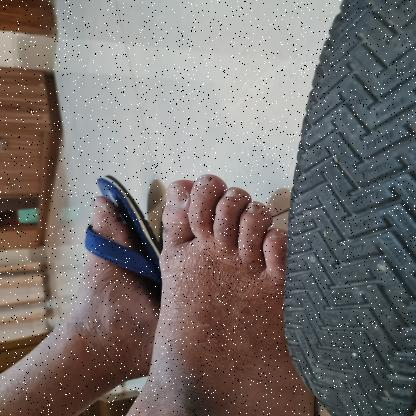leg: (124, 162, 320, 416), (0, 170, 161, 416)
